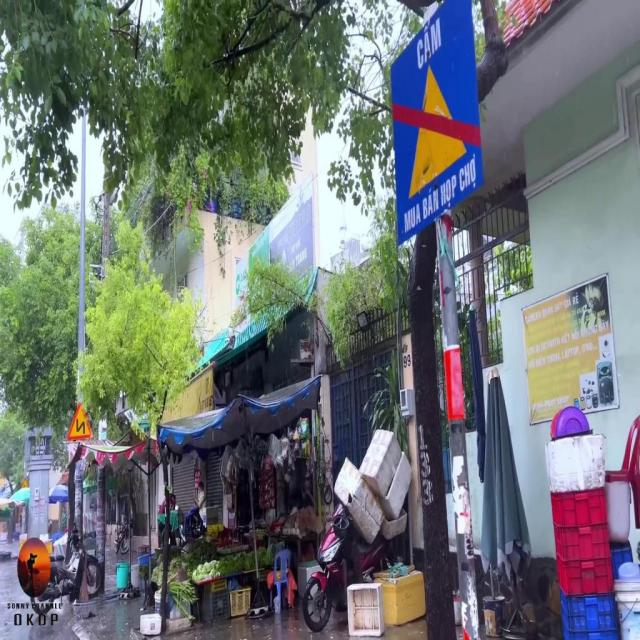cho_ngoat_nguy_hiem_lien_tiep: (66, 402, 93, 438)
khac: (390, 0, 482, 248)
